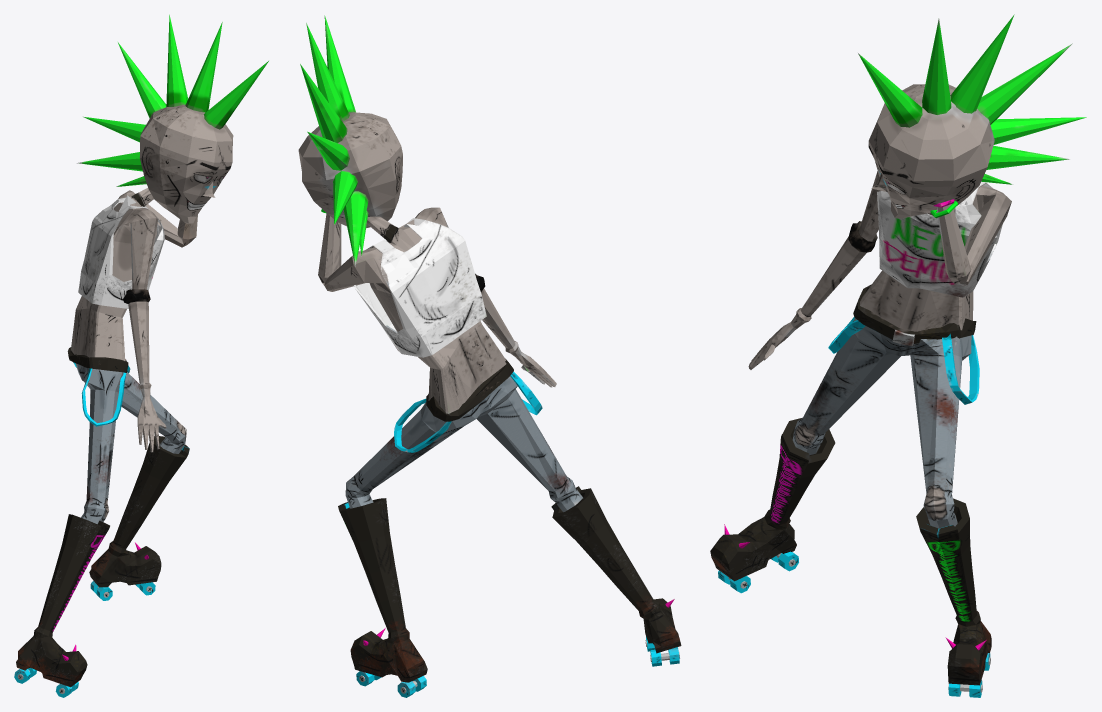
File: punkAnimation_000026.obj
3 renders of one model, left to right at view 1: azimuth 30°, elevation 25°; view 2: azimuth 150°, elevation 25°; view 3: azimuth 270°, elevation 25°, orthographic. The views are drawn at different scales.
Parts seen in each view (by area): view 1: Cube.004_Cube.003; view 2: Cube.004_Cube.003; view 3: Cube.004_Cube.003.
Part boxes in pixels (x1=…): Cube.004_Cube.003: x1=14, y1=14, x2=268, y2=697; Cube.004_Cube.003: x1=298, y1=15, x2=681, y2=697; Cube.004_Cube.003: x1=710, y1=14, x2=1086, y2=697.
Size of the model in its own units: 3.57 by 6.7 by 3.18.
